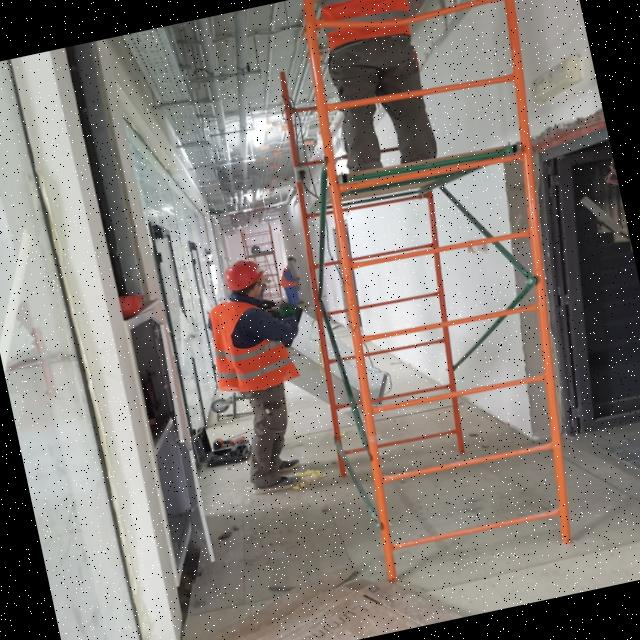Helmet: (217, 254, 272, 303)
NoHelmet: (288, 256, 298, 266)
